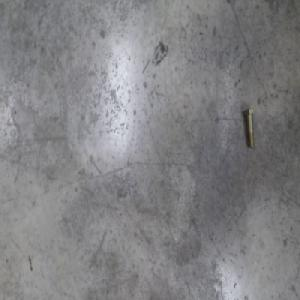Bolt: (243, 106, 254, 148)
